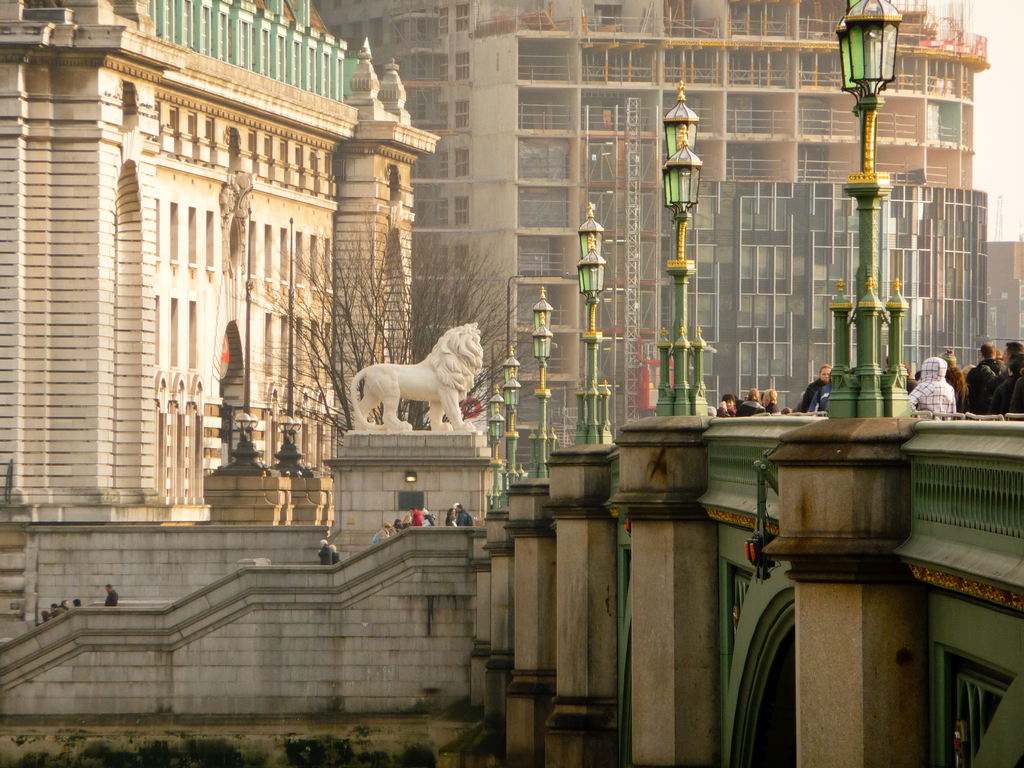Animal: (351, 326, 482, 431)
